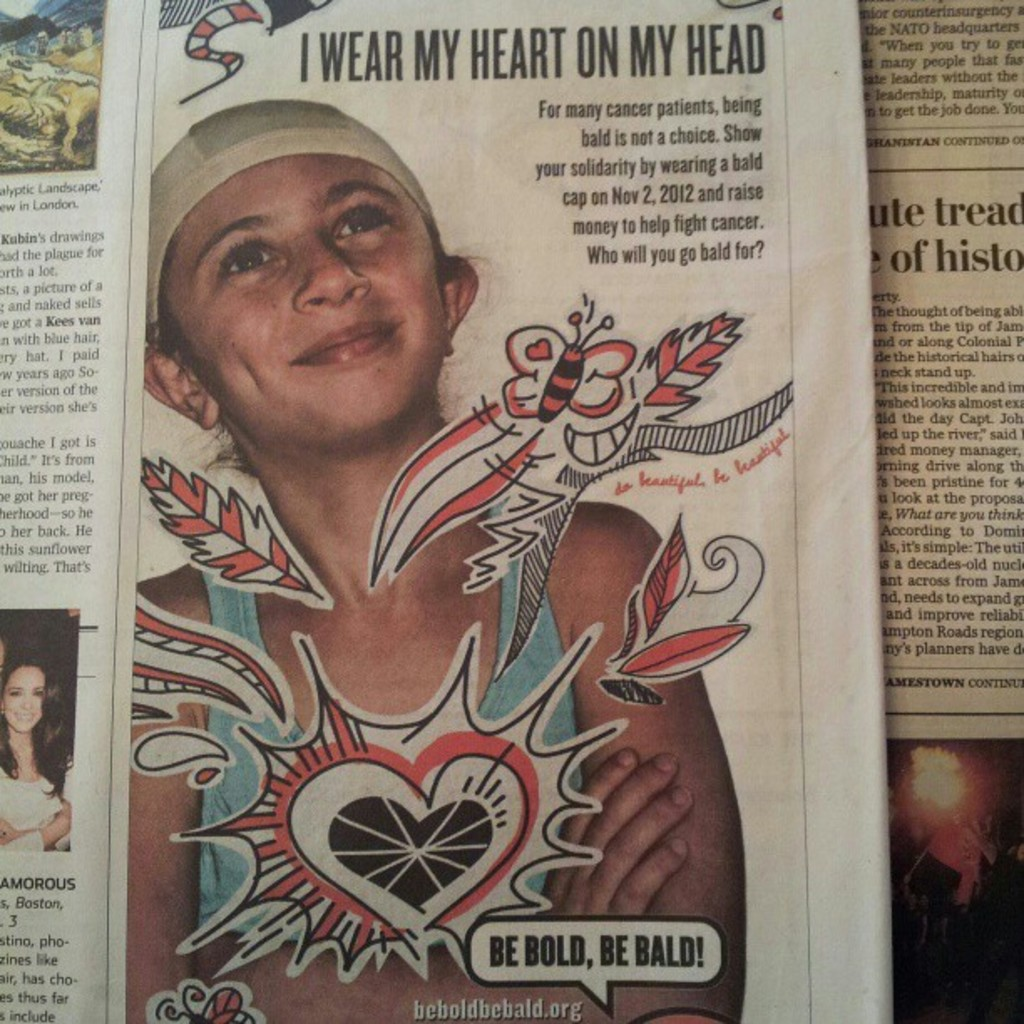Book: (33, 0, 888, 1024)
